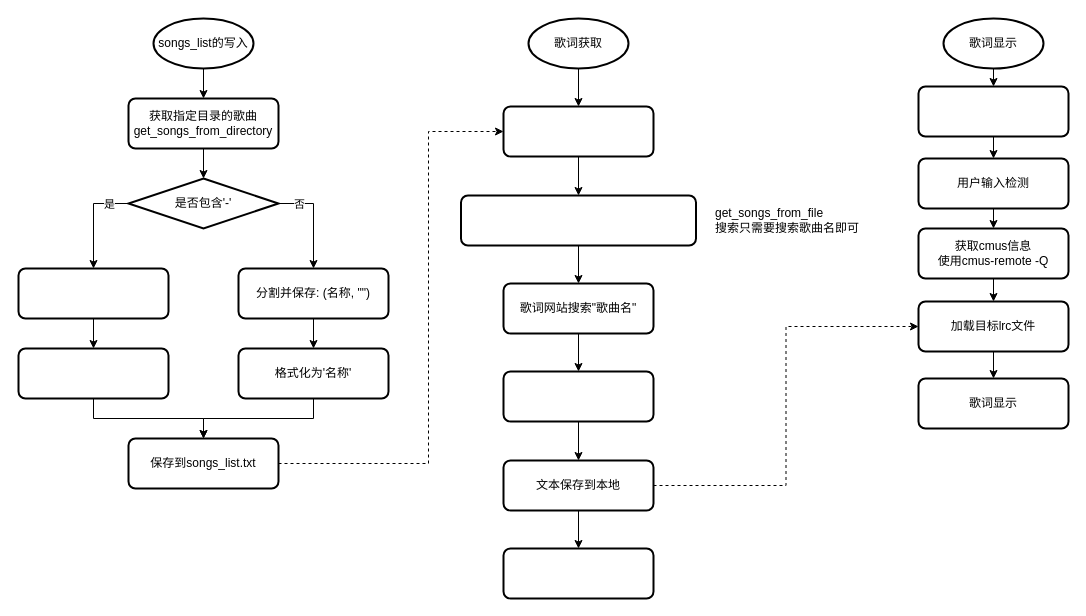
Image size: 1086x616. Some labels were removed from this diagram. The box of each missing label's shape, as (x1, y1, x2, y2) in pixels:
出现错误则将错误信息保存至error.txt文件: (502, 547, 654, 599)
分割并保存：(名称, 歌手): (17, 267, 169, 319)
格式化为'名称 - 歌手': (17, 347, 169, 399)
环境初始化: (917, 85, 1069, 137)
获取songs_list.txt: (502, 105, 654, 157)
获取songs_list.txt中歌曲 返回格式：{歌曲名, 原始行内容}: (460, 194, 696, 246)
获取网站上的歌词: (502, 370, 654, 422)
